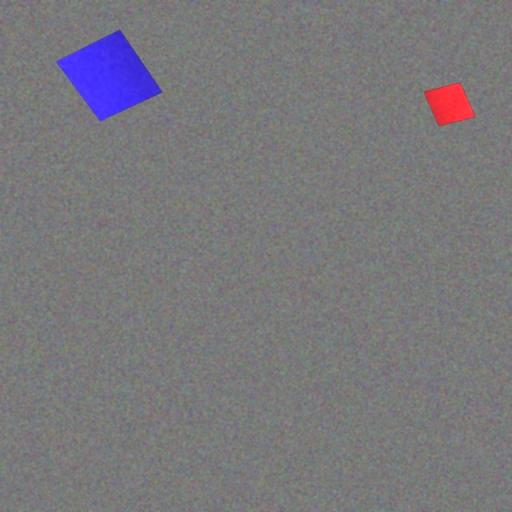BLUE_SQUARE: (55, 29, 163, 122)
RED_SQUARE: (422, 82, 476, 127)
